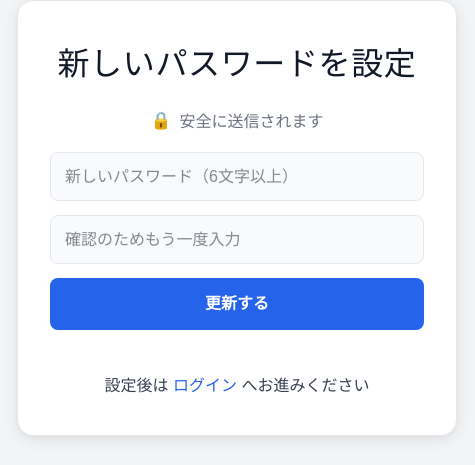
Scenario: ResetPasswordForm › 確認用と一致しないと、通信せずにエラーを出す
Expected: the button "更新する" is enabled, [50,278,424,330]
Type "abcdef" into the password field labelled "新しいパスワード".
click(237, 176); type("abcdef")  # box [50,152,424,201]
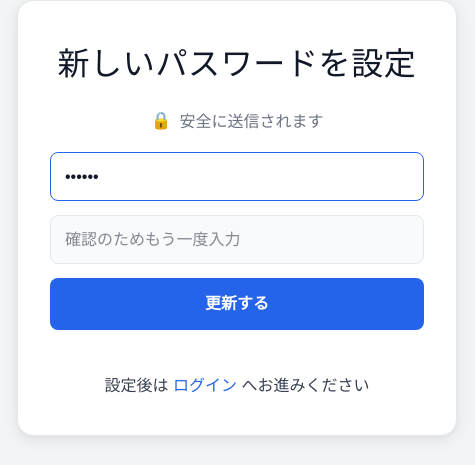
Type "abcdeg" into the password field named "新しいパスワード（確認）".
click(237, 240); type("abcdeg")  # box [50,215,424,264]
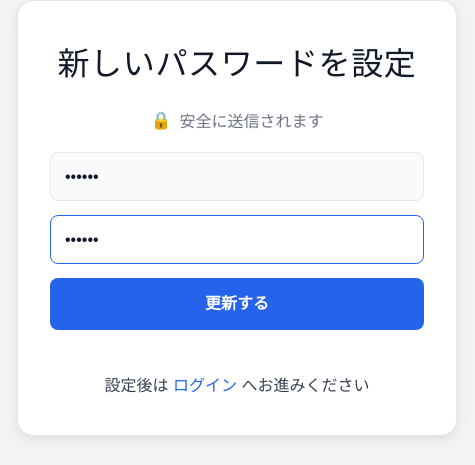
Click the button "更新する".
click(237, 304)  # box [50,278,424,330]
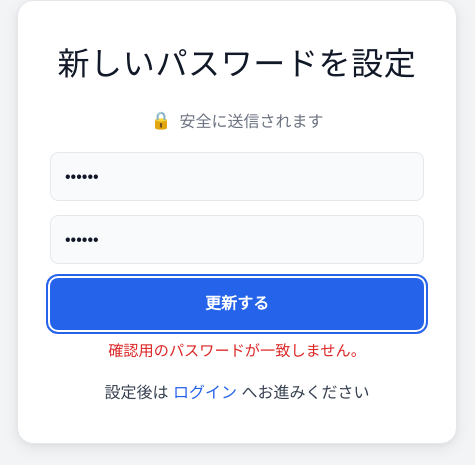
Result: the text "確認用のパスワードが一致しません。" is shown at [108,342,366,358]
